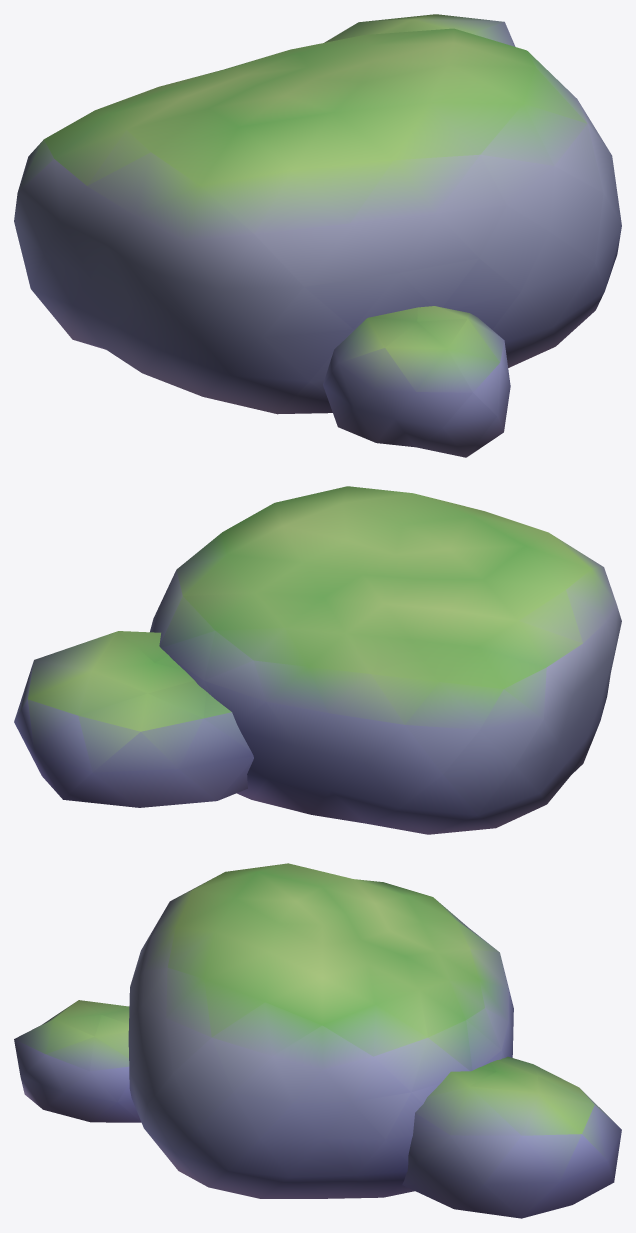
Rendered from verdant_rock_river_b.glb.
3 views of the same model, one above another, from view 1: azimuth 30°, elevation 25°; view 2: azimuth 150°, elevation 25°; view 3: azimuth 270°, elevation 25° (orthographic). The views are drawn at different scales.
Parts seen in each view (by area): view 1: verdant_rock_river_b; view 2: verdant_rock_river_b; view 3: verdant_rock_river_b.
Part boxes in pixels (x1,y1,x2,y2): verdant_rock_river_b: (14, 14, 621, 457); verdant_rock_river_b: (14, 486, 621, 834); verdant_rock_river_b: (14, 863, 621, 1218).
Bounding box in the file's own units: 5.04 × 2.25 × 5.97.
